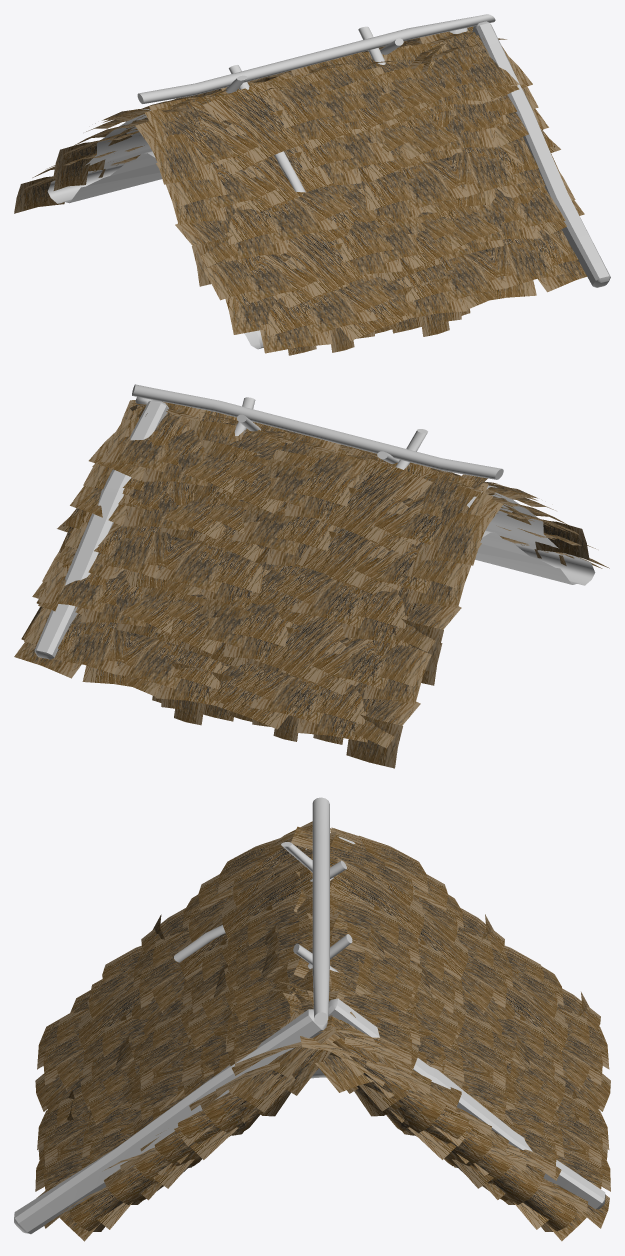
File: SM_barnRoofEnd3m_a1.fbx
3 renders of one model, top to bottom at view 1: azimuth 30°, elevation 25°; view 2: azimuth 150°, elevation 25°; view 3: azimuth 270°, elevation 25°, orthographic. The views are drawn at different scales.
Visible parts, largest first — view 1: SM_barnRoofEnd3m_a1_LOD0; view 2: SM_barnRoofEnd3m_a1_LOD0; view 3: SM_barnRoofEnd3m_a1_LOD0.
Part boxes in pixels (x1,y1,x2,y2): SM_barnRoofEnd3m_a1_LOD0: (14,14,610,355); SM_barnRoofEnd3m_a1_LOD0: (14,384,609,768); SM_barnRoofEnd3m_a1_LOD0: (14,797,610,1241).
Bounding box in the file's own units: 392 × 432 × 204.
4 materials, 1 textured.
